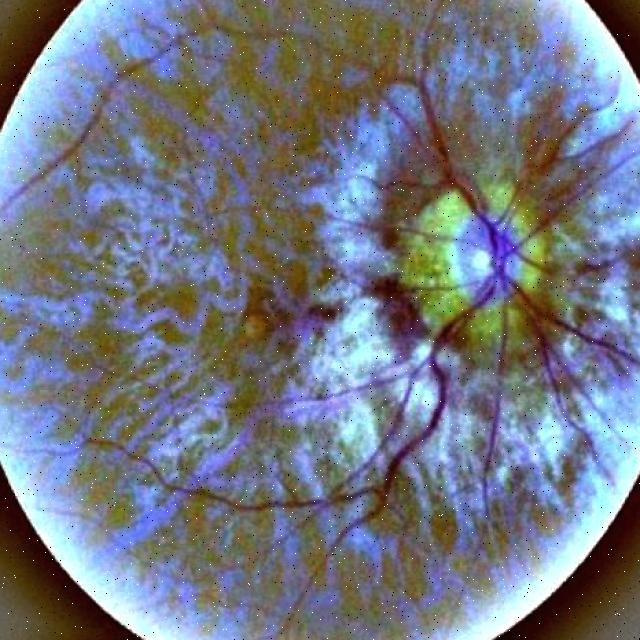Macula: (228, 298, 335, 345)
Nerves: (270, 0, 504, 256), (318, 287, 494, 574), (498, 255, 640, 367)
Optic Disk: (409, 190, 549, 332)
